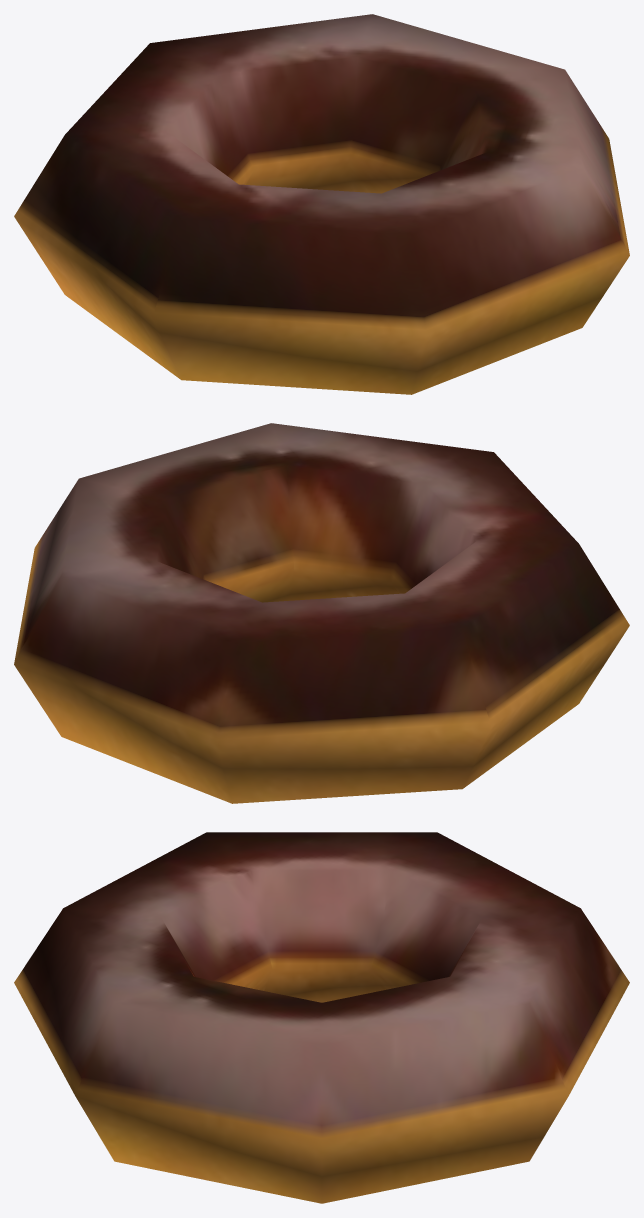
File: DonutType2.glb
3 views of the same model, one above another, from view 1: azimuth 30°, elevation 25°; view 2: azimuth 150°, elevation 25°; view 3: azimuth 270°, elevation 25° (orthographic).
Visible parts, largest first — view 1: Donut_02; view 2: Donut_02; view 3: Donut_02.
Boxes of the visible parts, left/top/right/bottom form: Donut_02: left=14, top=14, right=629, bottom=394; Donut_02: left=14, top=423, right=629, bottom=803; Donut_02: left=14, top=832, right=629, bottom=1203.
Bounding box in the file's own units: 0.2093 × 0.0609 × 0.2147.
1 material, 1 textured.
